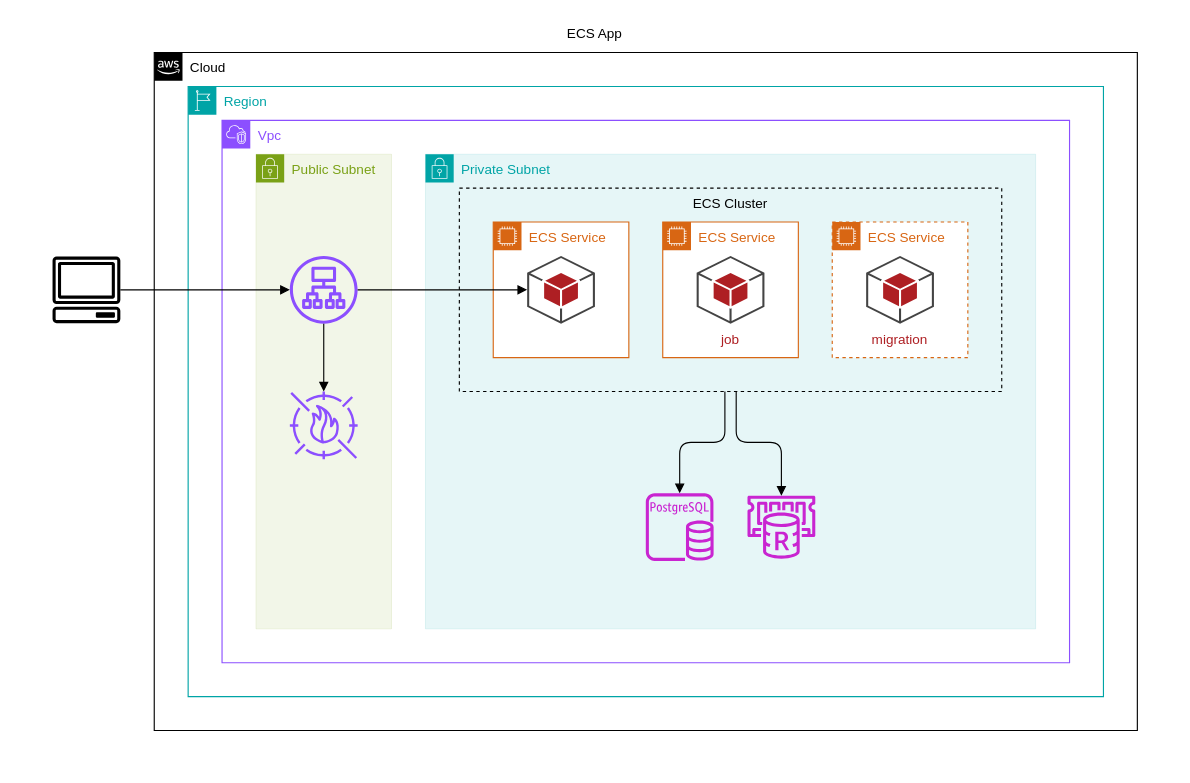
The diagram is 1190 pixels wide and 783 high, and some of its shapes have lost their labels. The shapes that lost their labels are listed below. From the top down, each one's centre as x and y in pixels, then its label:
point 85,289: Client
point 323,289: Load Balancer
point 560,289: web
point 323,424: WAF
point 679,526: Postgres
point 780,526: Redis
